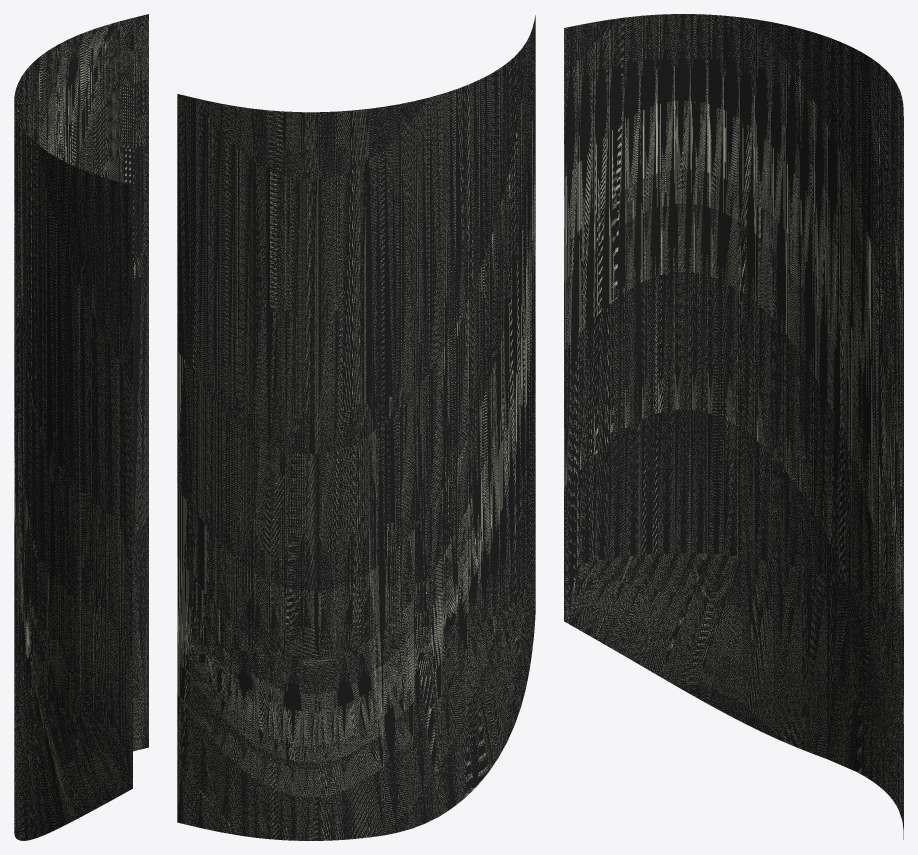
File: original-19.obj
3 renders of one model, left to right at view 1: azimuth 30°, elevation 25°; view 2: azimuth 150°, elevation 25°; view 3: azimuth 270°, elevation 25°, orthographic.
Visible parts, largest first — view 1: Obj_000019_1/Obj_000019/mesh19/mesh19-geometry#mesh19-geometry; view 2: Obj_000019_1/Obj_000019/mesh19/mesh19-geometry#mesh19-geometry; view 3: Obj_000019_1/Obj_000019/mesh19/mesh19-geometry#mesh19-geometry.
Part boxes in pixels (x1,y1,x2,y2): Obj_000019_1/Obj_000019/mesh19/mesh19-geometry#mesh19-geometry: (14, 14, 148, 840); Obj_000019_1/Obj_000019/mesh19/mesh19-geometry#mesh19-geometry: (177, 15, 535, 840); Obj_000019_1/Obj_000019/mesh19/mesh19-geometry#mesh19-geometry: (564, 14, 903, 839).
Size of the model in its own units: 0.0184 by 0.0592 by 0.0252.
